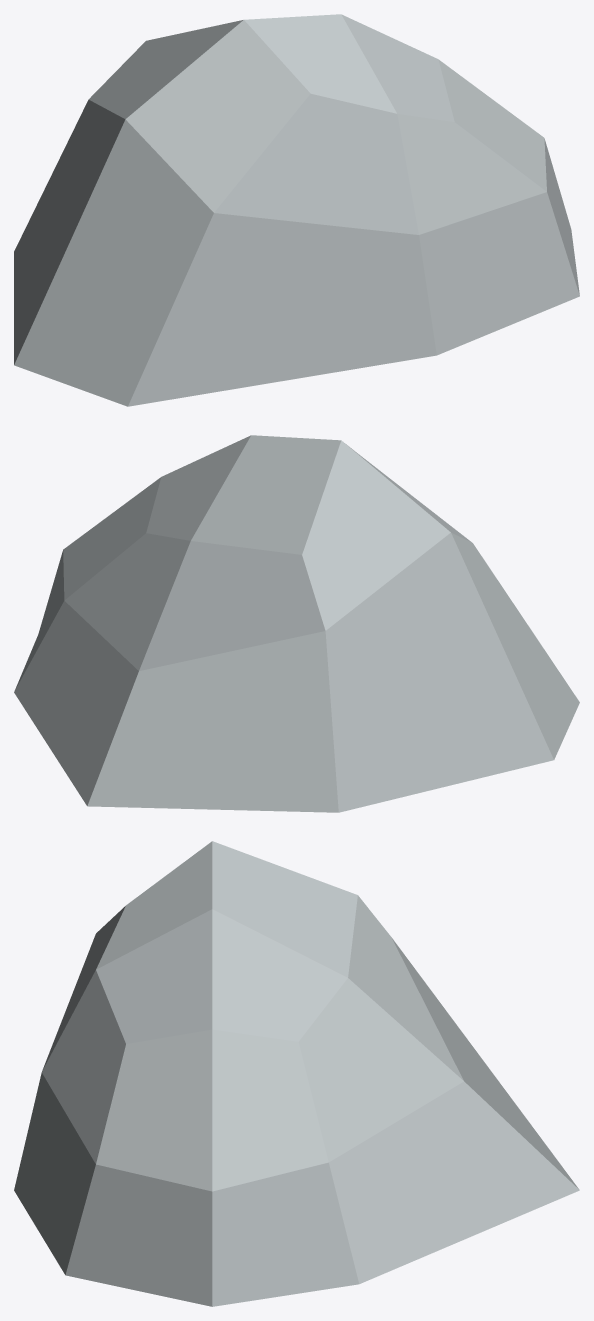
Rendered from maya_export_Stone2.fbx.
3 renders of one model, top to bottom at view 1: azimuth 30°, elevation 25°; view 2: azimuth 150°, elevation 25°; view 3: azimuth 270°, elevation 25°, orthographic. The views are drawn at different scales.
Parts seen in each view (by area): view 1: Stone2; view 2: Stone2; view 3: Stone2.
Part boxes in pixels (x1=…): Stone2: x1=14, y1=14, x2=579, y2=406; Stone2: x1=14, y1=435, x2=579, y2=812; Stone2: x1=14, y1=841, x2=579, y2=1306.
Bounding box in the file's own units: 2.15 × 1.07 × 1.82.
Materials: 1 (1 with a texture image).
